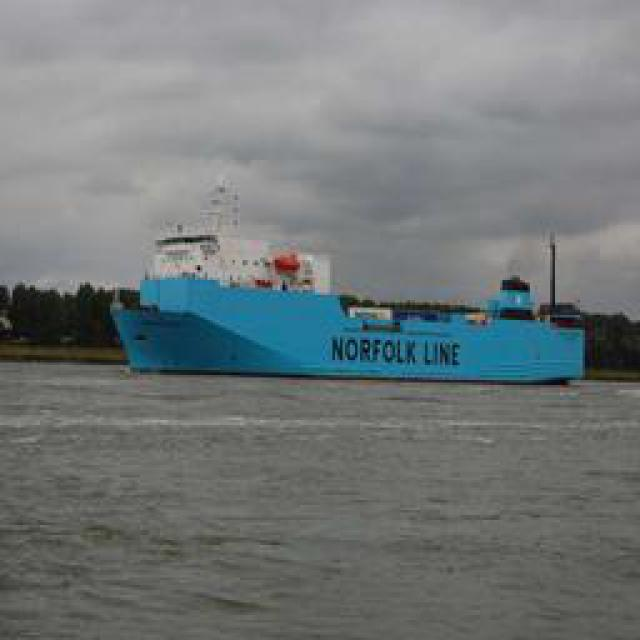Ship: (117, 215, 585, 388)
